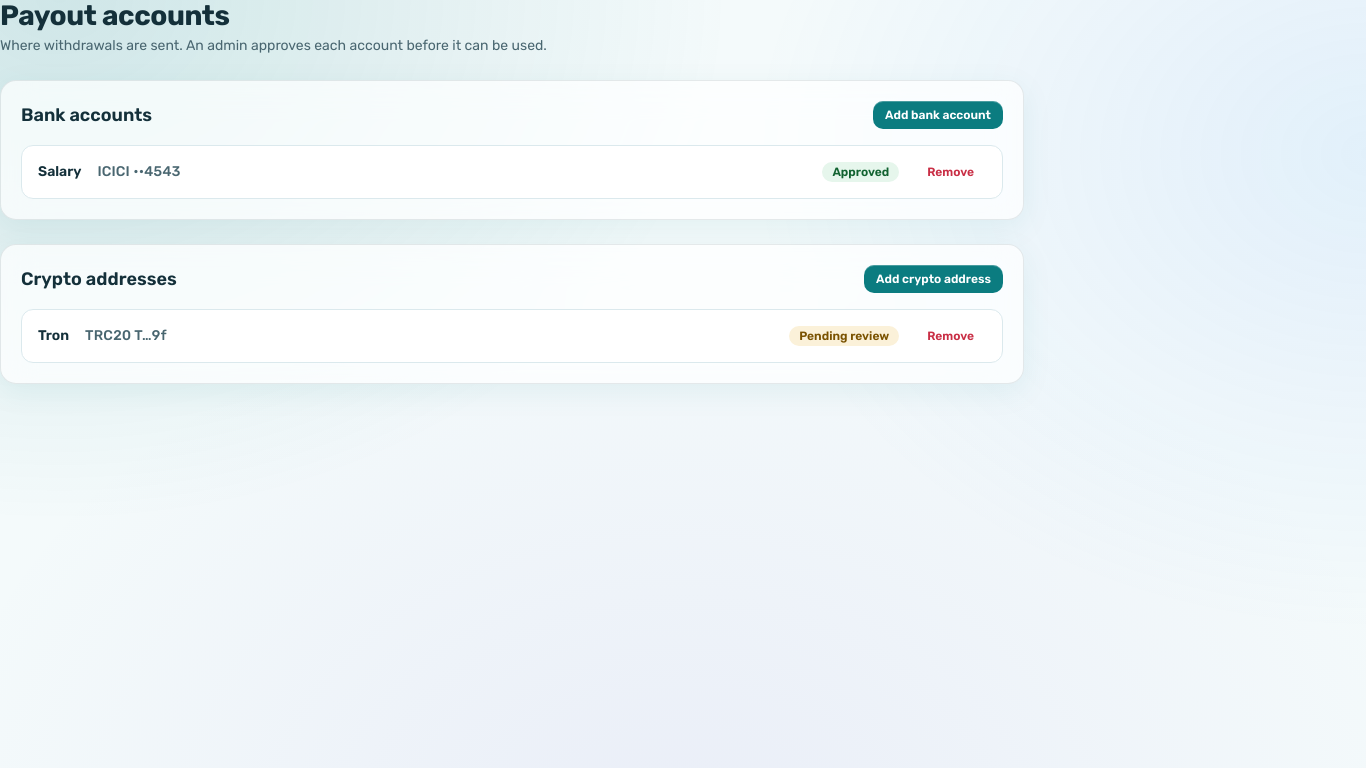
Test: the server's refusal to remove is shown as written
Step 1. Click the button with aria-label "Remove Salary" → (951, 172), box [915,158,986,186]
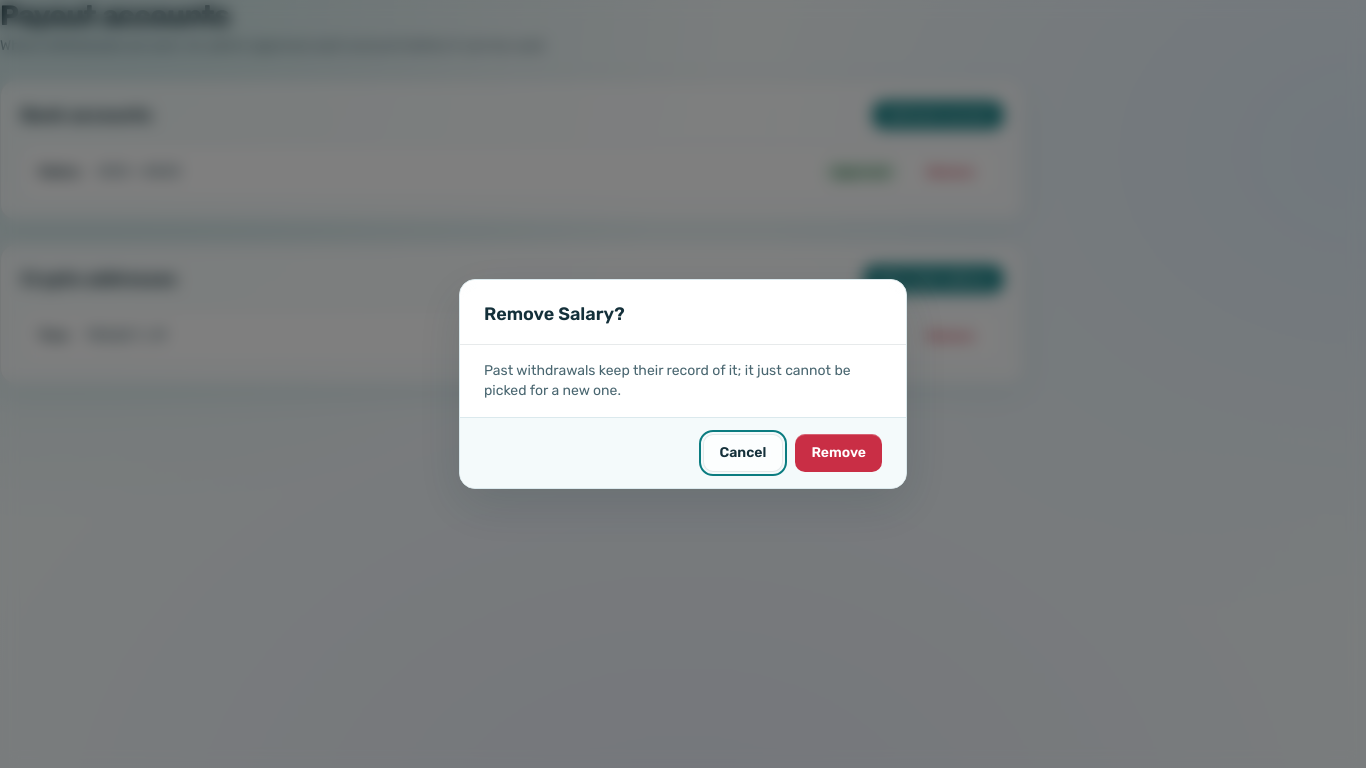
Step 2. Click the button "Remove" → (839, 453), box [795,434,882,472]
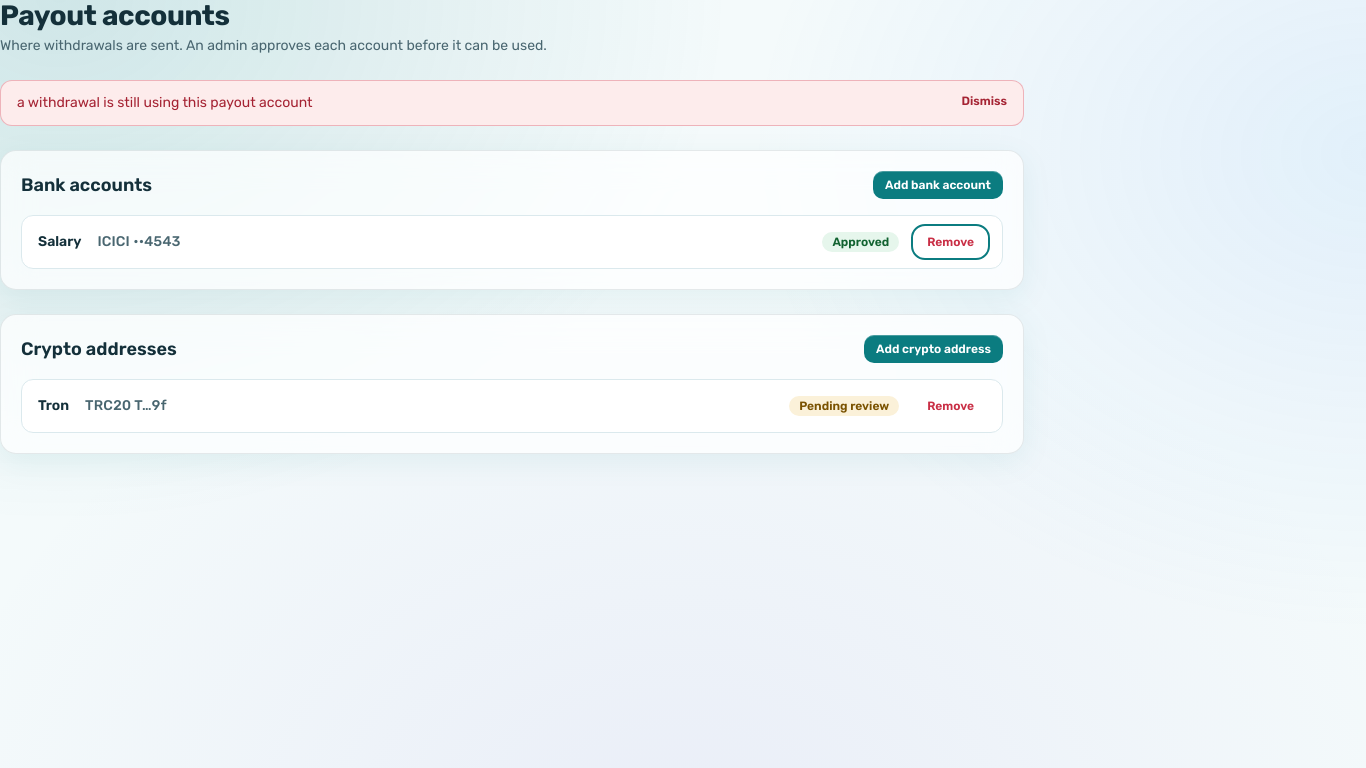
Expected: the text "Salary" is shown, [38,232,82,252]
Now the text "a withdrawal is still using this payout account" is shown, box [17,93,313,113]
